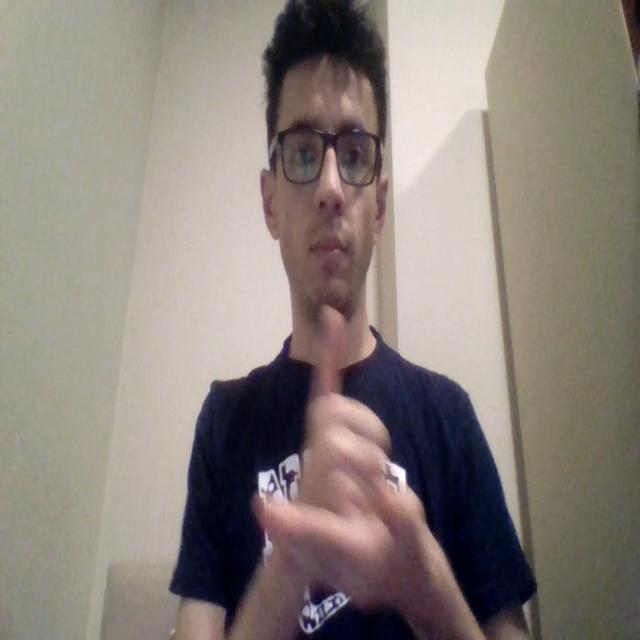help: (259, 308, 432, 604)
